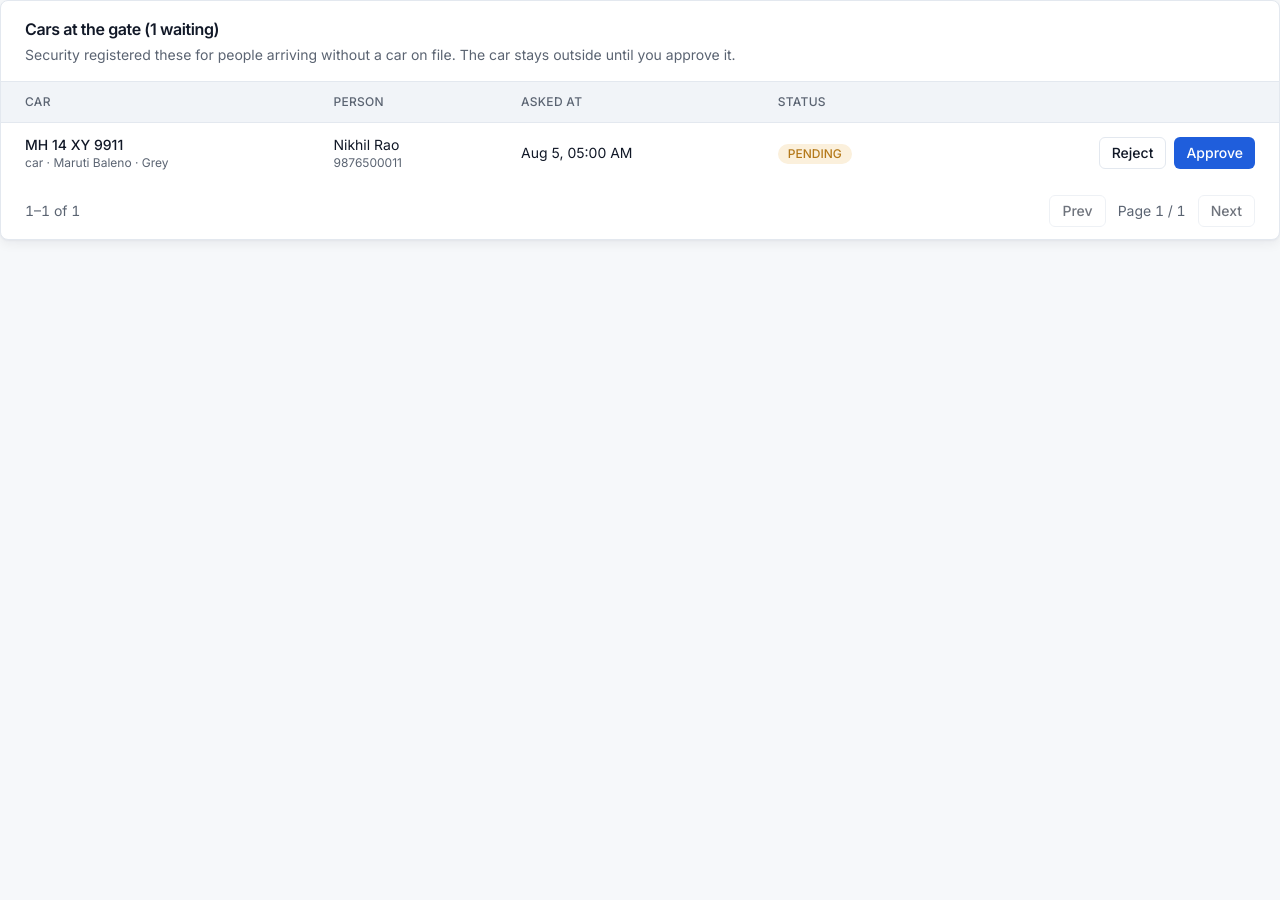
VehicleRegistrations › surfaces a rejected decision without claiming it worked
Click the button "Approve".
click(1215, 153)  # box [1174,137,1255,169]
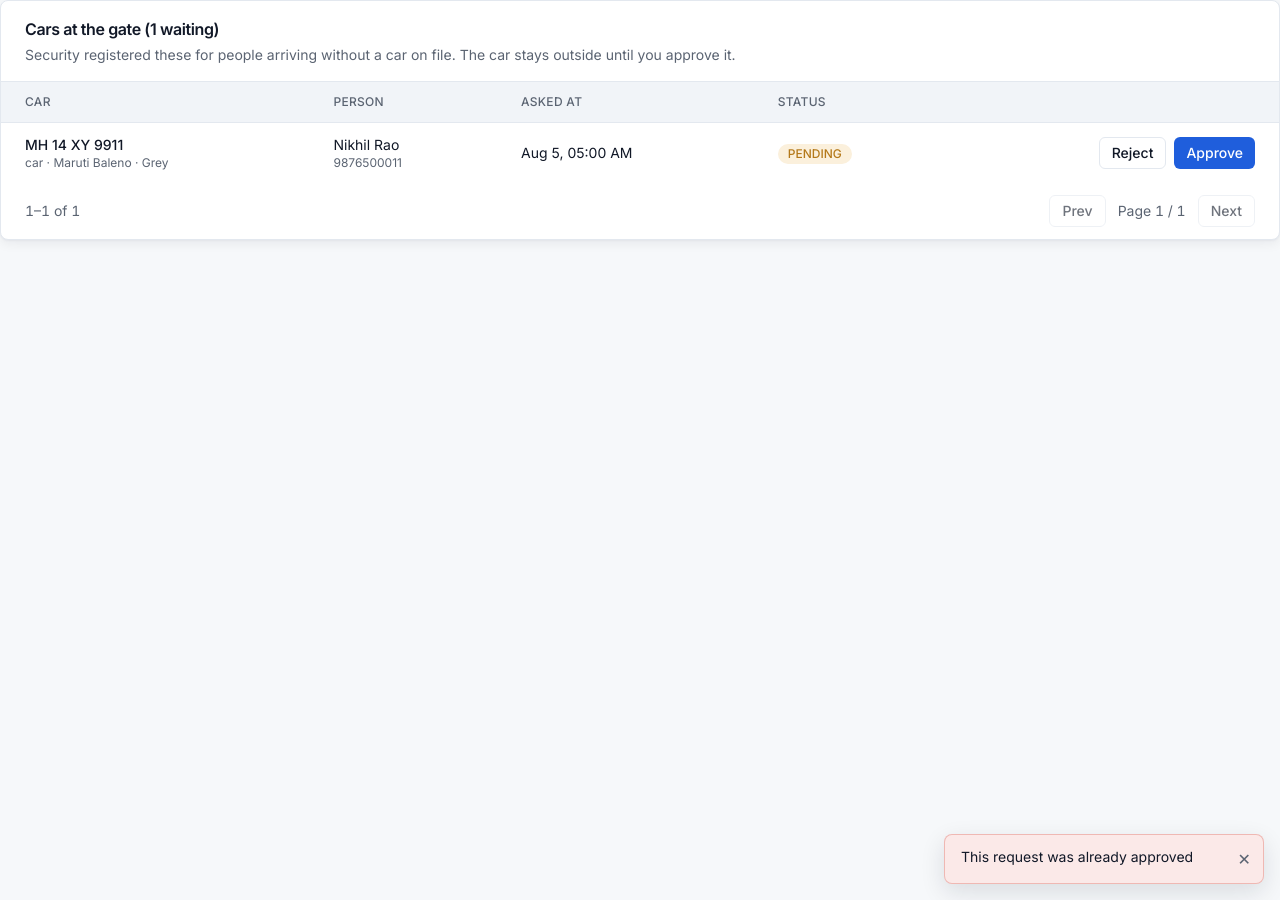
Now the text "This request was already approved" is shown, box [961,847,1226,867]
